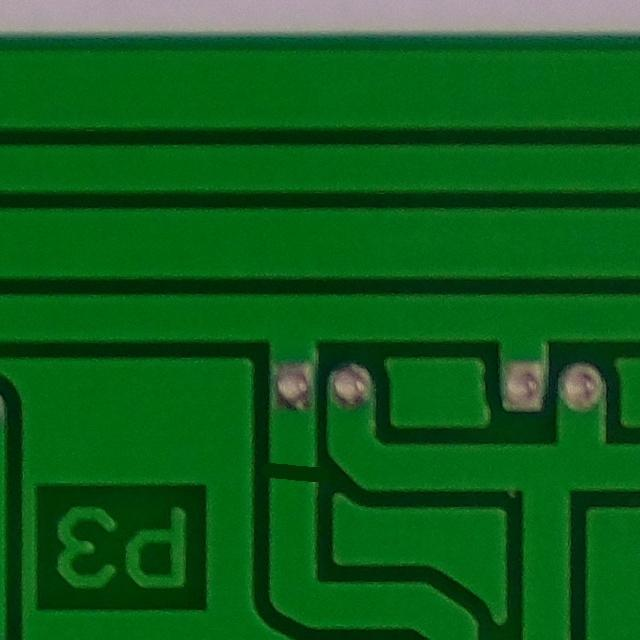open_circuit: (259, 431, 324, 510)
